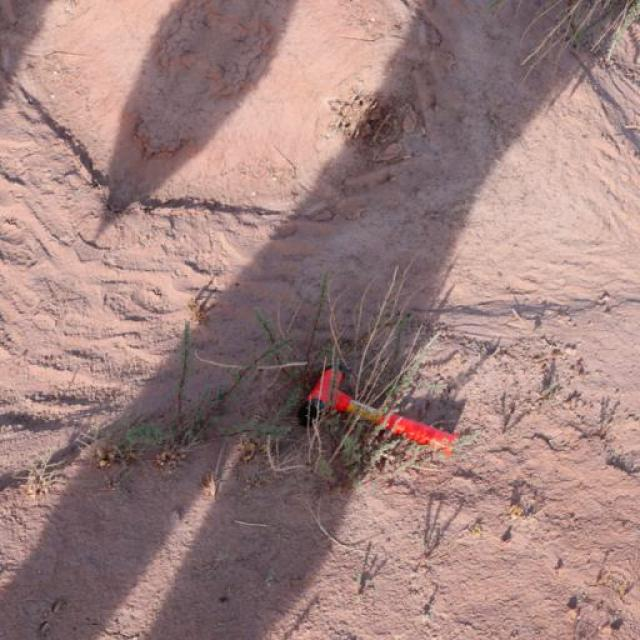mallet: (300, 362, 461, 457)
